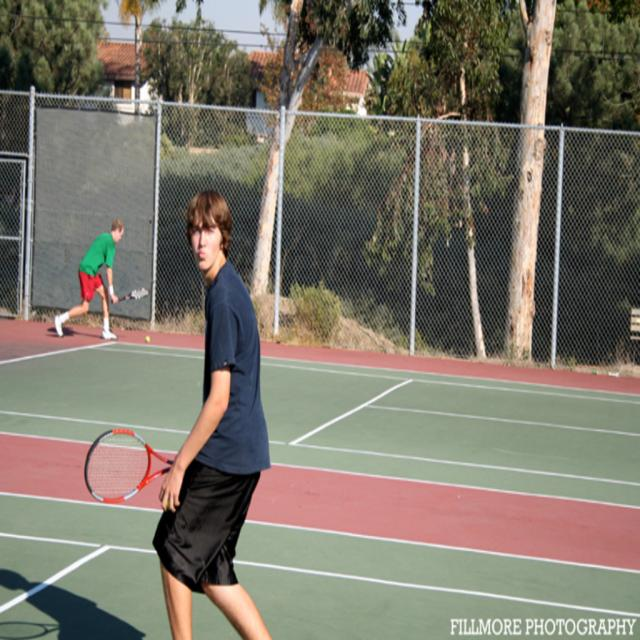Tennis ball: (144, 336, 151, 343)
